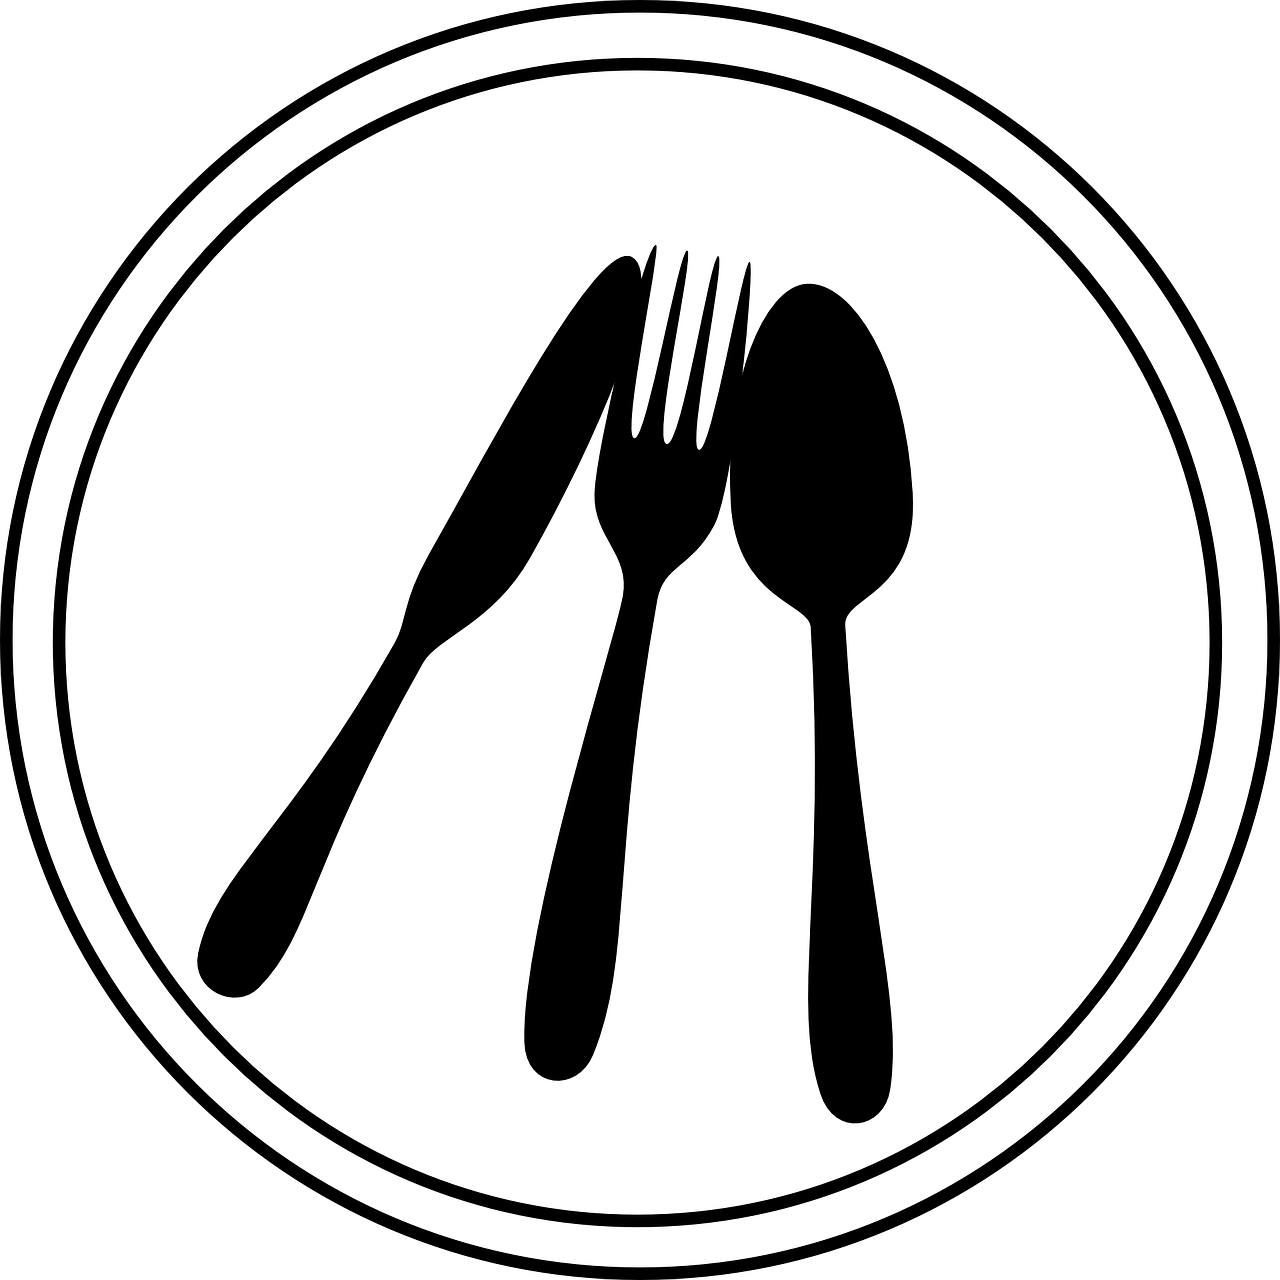knife: (189, 236, 661, 1001)
